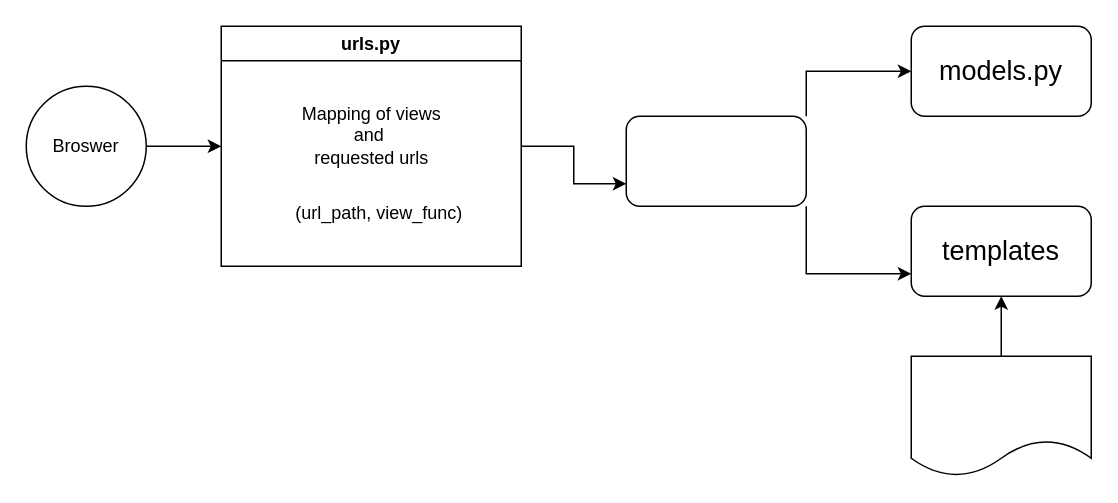
Some shapes in this 1118 by 503 pixel diagram are drawn without their labels. Here are the shapes that lost their labels. From the top down, the centre of each, then its label:
the point at 715,160: views.py
the point at 1000,415: HTML pages with django template language
